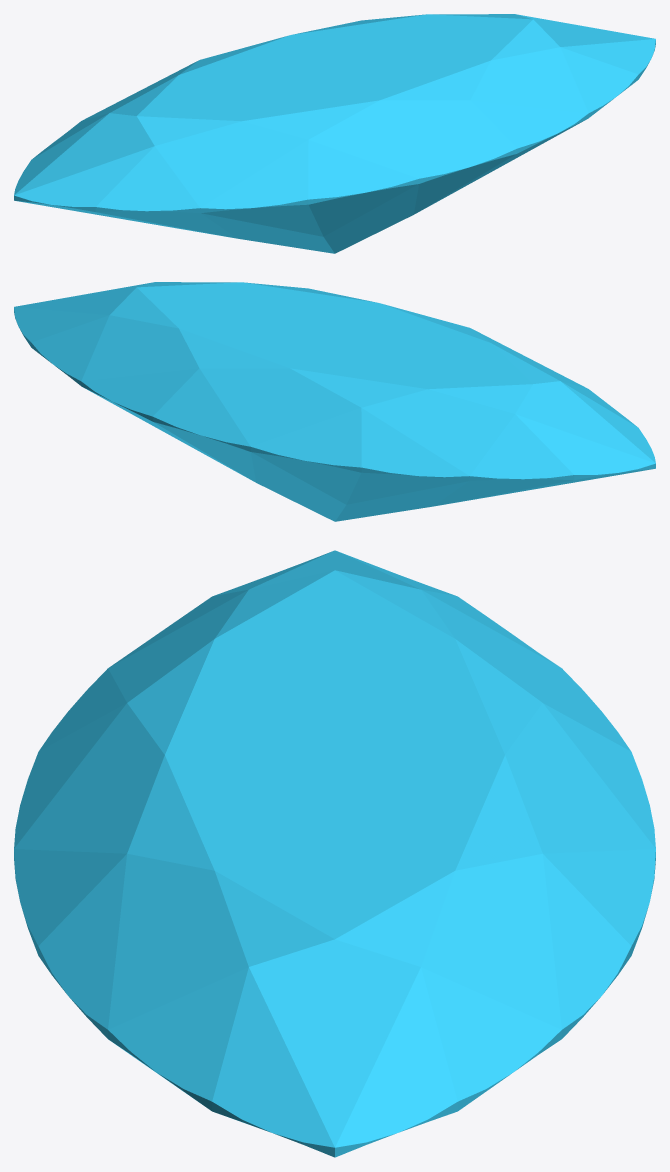
The model's file is marquise.glb.
The picture shows the model from 3 angles, top to bottom: view 1: azimuth 30°, elevation 25°; view 2: azimuth 150°, elevation 25°; view 3: azimuth 270°, elevation 25°; orthographic projection. The views are drawn at different scales.
Visible parts, largest first — view 1: Object_110; view 2: Object_110; view 3: Object_110.
Part boxes in pixels (left/top/right/bottom): Object_110: left=14, top=14, right=655, bottom=253; Object_110: left=14, top=282, right=655, bottom=521; Object_110: left=14, top=550, right=655, bottom=1157.
Size of the model in its own units: 1.72 by 0.4769 by 0.7819.
